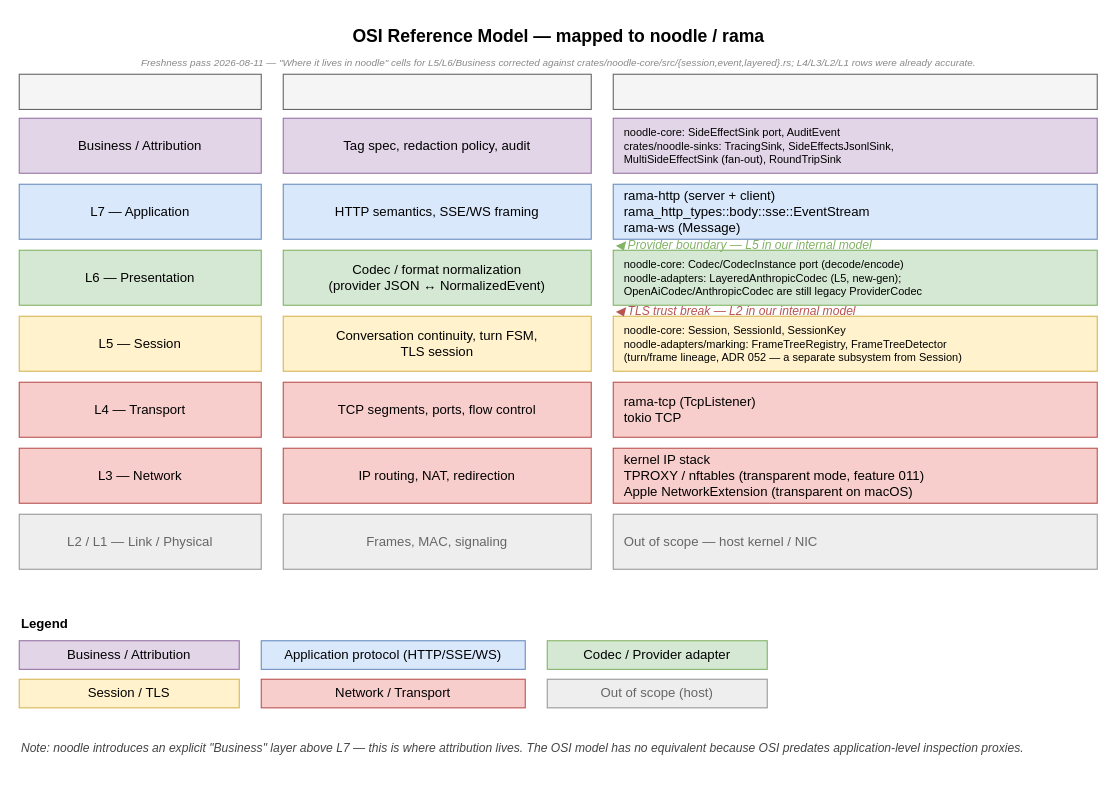
Some shapes in this 1117 by 796 pixel diagram are drawn without their labels. Each missing label, with the centre of its shape:
Canonical concern: the point at 436,91
OSI Layer: the point at 139,91
Where it lives in noodle: the point at 854,91
